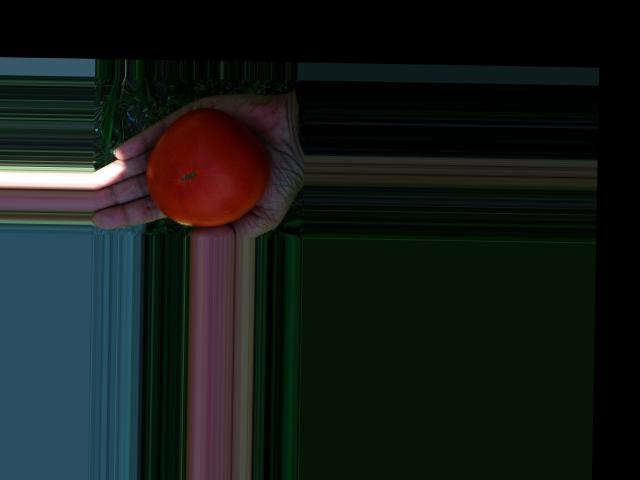tomato: (145, 106, 269, 227)
